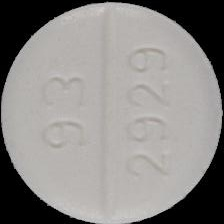0093-2929: (0, 0, 224, 224)
